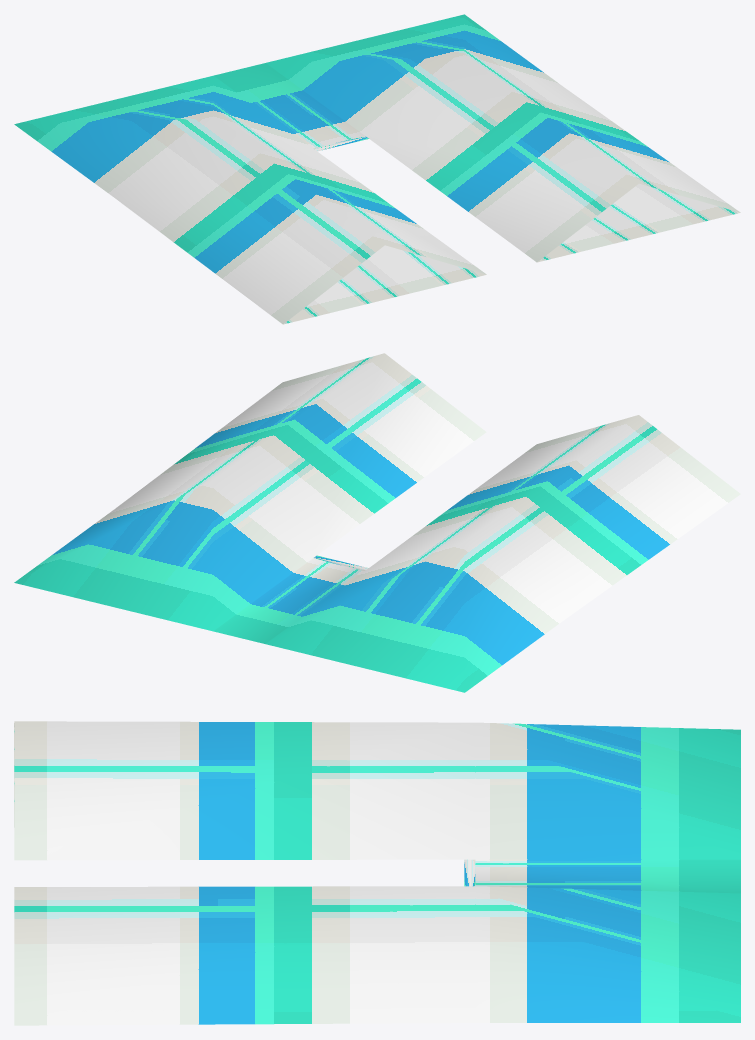
The model's file is 2152pants000_c.gltf.
3 views of the same model, one above another, from view 1: azimuth 30°, elevation 25°; view 2: azimuth 150°, elevation 25°; view 3: azimuth 270°, elevation 25° (orthographic). The views are drawn at different scales.
Visible parts, largest first — view 1: 2152pants000_c; view 2: 2152pants000_c; view 3: 2152pants000_c.
Part boxes in pixels (left/top/right/bottom): 2152pants000_c: left=14, top=14, right=740, bottom=324; 2152pants000_c: left=14, top=353, right=740, bottom=692; 2152pants000_c: left=14, top=721, right=740, bottom=1025.
Bounding box in the file's own units: 0.7793 × 0.0884 × 0.803.
1 material, 1 textured.
